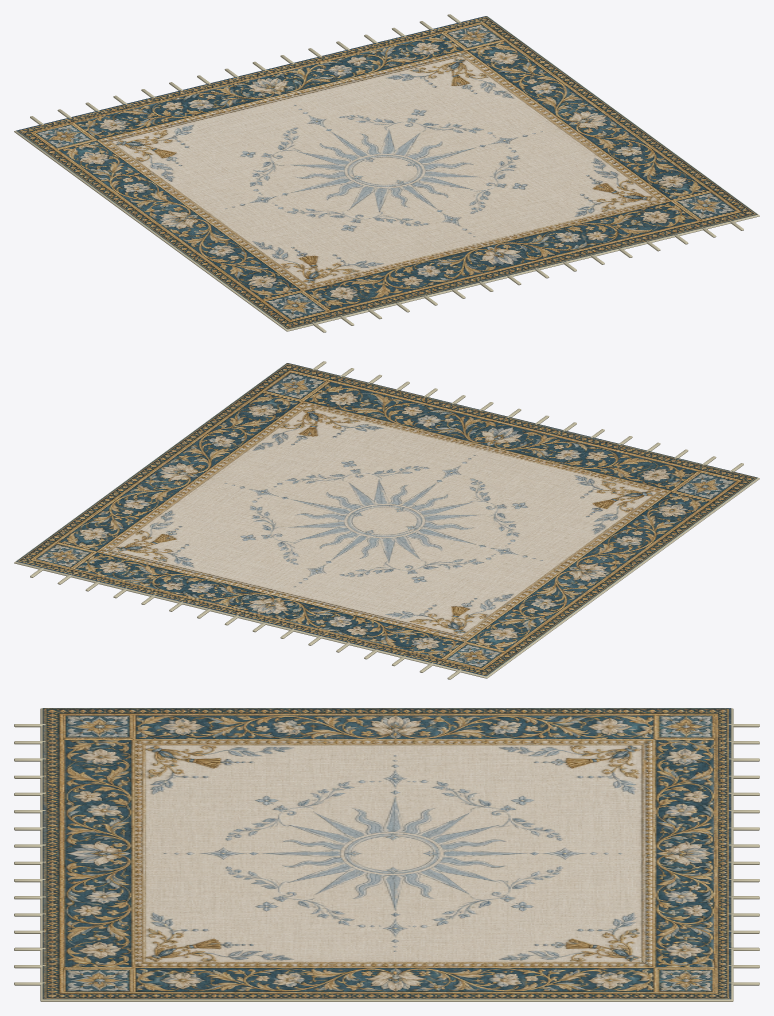
Rendered from carpet-l2.glb.
The picture shows the model from 3 angles, top to bottom: view 1: azimuth 30°, elevation 25°; view 2: azimuth 150°, elevation 25°; view 3: azimuth 270°, elevation 25°; orthographic projection. The views are drawn at different scales.
Visible parts, largest first — view 1: Woven cloth body; view 2: Woven cloth body; view 3: Woven cloth body.
Part boxes in pixels (bbox=[...]): Woven cloth body: bbox=[14, 14, 759, 332]; Woven cloth body: bbox=[14, 361, 759, 679]; Woven cloth body: bbox=[14, 708, 759, 1001].
Bounding box in the file's own units: 1.7 × 0.006 × 1.83.
Materials: 2 (1 with a texture image).
